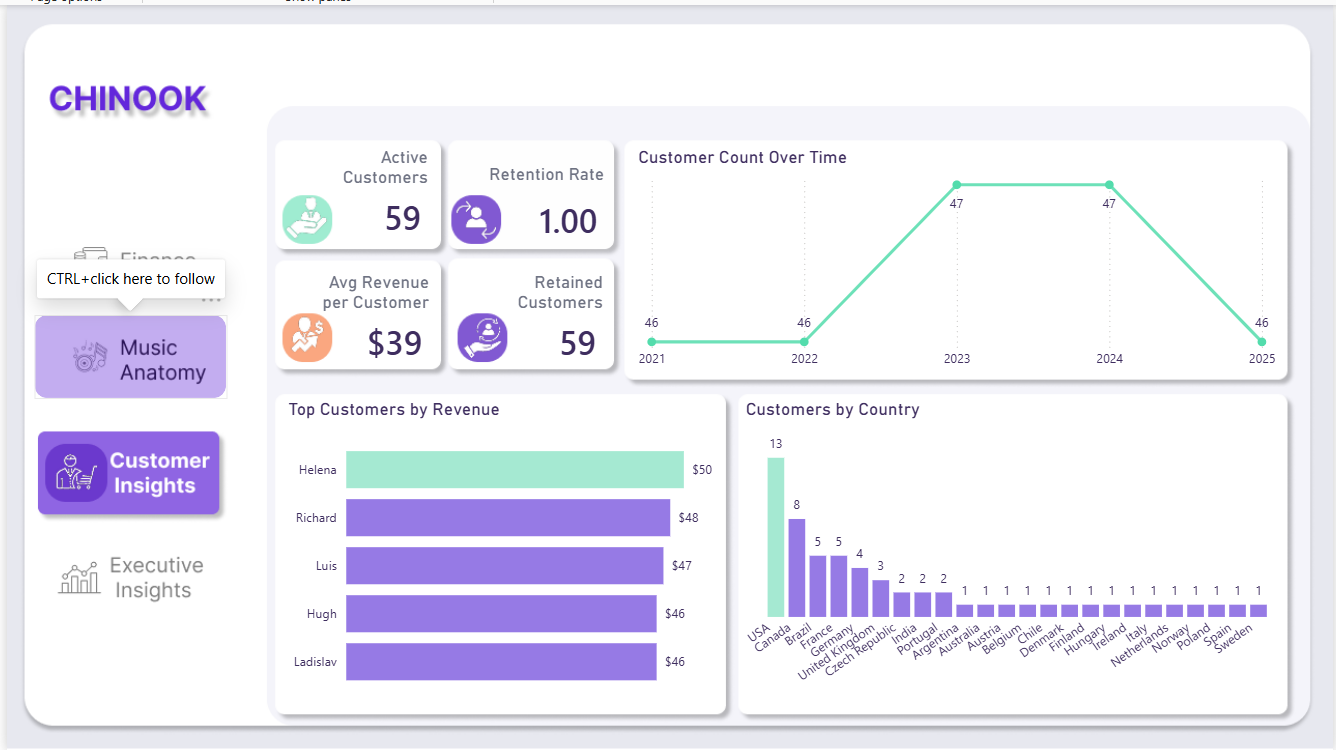

Layout of this report page (visuals, bound fields, positions):
{"tool":"powerbi","page":{"name":"Customer Insights","canvas":[1280,720],"ordinal":2},"visuals":[{"type":"columnChart","title":"Customers by Country","fields":{"Category":["customer.Country"],"Y":["_Measures.Active Customers"]},"box":[708.2,380,521.2,296.8],"z":0},{"type":"lineChart","title":"Customer Count Over Time","fields":{"Y":["_Measures.Active Customers"],"Category":["DateTable.Year"]},"box":[604.4,136.3,624.9,223.2],"z":1000},{"type":"barChart","title":"Top Customers by Revenue","fields":{"Y":["_Measures.Revenue per Customer"],"Category":["customer.FirstName"]},"box":[266.6,380,419.8,296.8],"z":2000},{"type":"cardVisual","title":"Active Customers","fields":{"Data":["_Measures.Active Customers"]},"box":[278.7,136.3,132.7,92.9],"z":3000},{"type":"cardVisual","title":"Retention Rate","fields":{"Data":["_Measures.Retention Rate"]},"box":[448.8,153.2,132.7,84.5],"z":4000},{"type":"cardVisual","title":"Avg Revenue per Customer","fields":{"Data":["_Measures.Avg Revenue per Customer"]},"box":[279.9,256.8,132.6,93.7],"z":5000},{"type":"cardVisual","title":"Retained Customers","fields":{"Data":["_Measures.Retained Customers"]},"box":[447.8,256.8,132.6,92.5],"z":6000},{"type":"actionButton","box":[26.8,407.7,185,87.6],"z":7000},{"type":"actionButton","box":[26.8,299.4,185,80.3],"z":8000},{"type":"actionButton","box":[38.9,509.9,175.2,80.3],"z":9000},{"type":"actionButton","box":[36.5,208.1,175.2,80.3],"z":10000}]}

Visuals, with their boxes on the page's 1280x720 design canvas (x1, y1, x2, y2). These are canvas units, not pixel positions in the 1336x750 screenshot, which may show the page scaled, cropped or inside an application window:
"Customers by Country" columnChart: left=708, top=380, right=1229, bottom=677
"Customer Count Over Time" lineChart: left=604, top=136, right=1229, bottom=360
"Top Customers by Revenue" barChart: left=267, top=380, right=686, bottom=677
"Active Customers" cardVisual: left=279, top=136, right=411, bottom=229
"Retention Rate" cardVisual: left=449, top=153, right=582, bottom=238
"Avg Revenue per Customer" cardVisual: left=280, top=257, right=412, bottom=350
"Retained Customers" cardVisual: left=448, top=257, right=580, bottom=349
actionButton: left=27, top=408, right=212, bottom=495
actionButton: left=27, top=299, right=212, bottom=380
actionButton: left=39, top=510, right=214, bottom=590
actionButton: left=36, top=208, right=212, bottom=288
